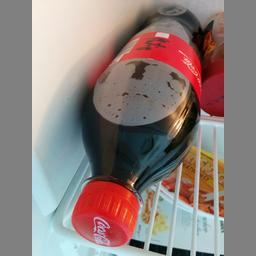soda: (70, 2, 206, 246)
